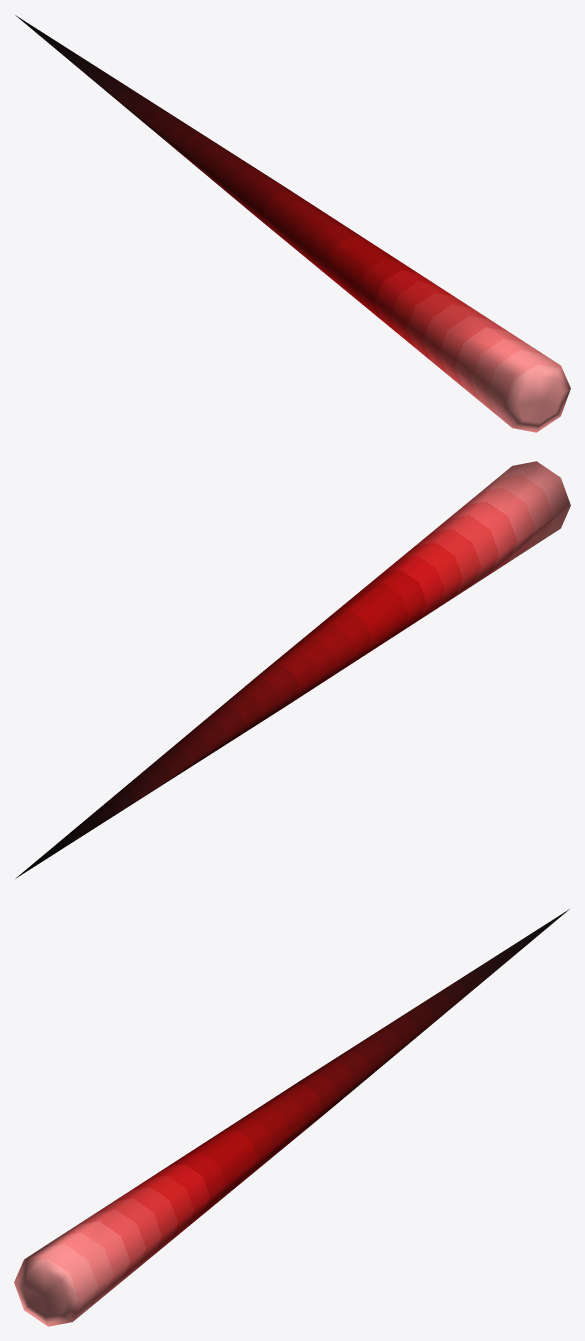
File: Tracer1R.glb
3 views of the same model, one above another, from view 1: azimuth 30°, elevation 25°; view 2: azimuth 150°, elevation 25°; view 3: azimuth 330°, elevation 25° (orthographic).
Parts seen in each view (by area): view 1: _Tracer1R; view 2: _Tracer1R; view 3: _Tracer1R.
Boxes of the visible parts, x1,y1,x2,y2 form: _Tracer1R: (15,15,570,432); _Tracer1R: (15,461,570,878); _Tracer1R: (14,909,569,1326).
Bounding box in the file's own units: 0.6 × 0.6 × 8.
1 material, 1 textured.
